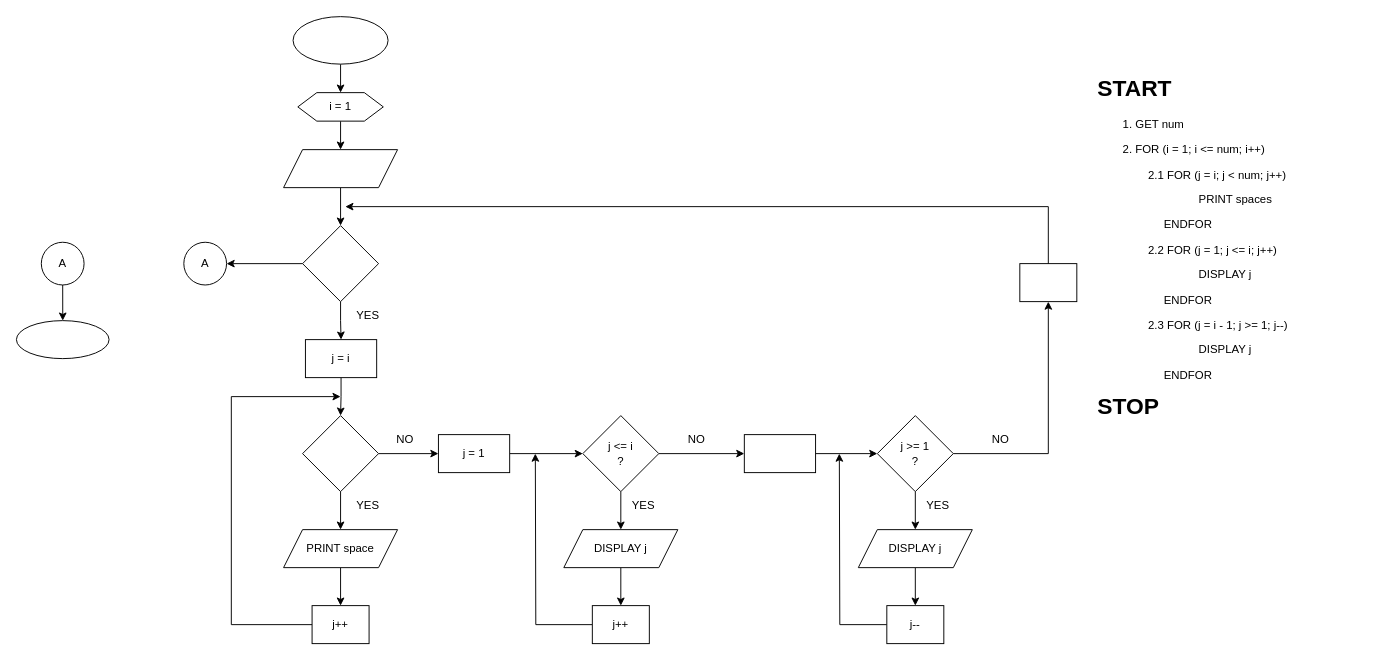
The diagram is 1397 pixels wide and 660 high, and some of its shapes have lost their labels. The shapes that lost their labels are listed below. From the top down, each one's centre as x and y in pixels, then its label:
At point (340, 40): "START".
At point (340, 168): "GET num".
At point (340, 263): "i <= num ?".
At point (1048, 282): "i++".
At point (62, 339): "STOP".
At point (340, 453): "j < num ?".
At point (779, 453): "j = i - 1".
